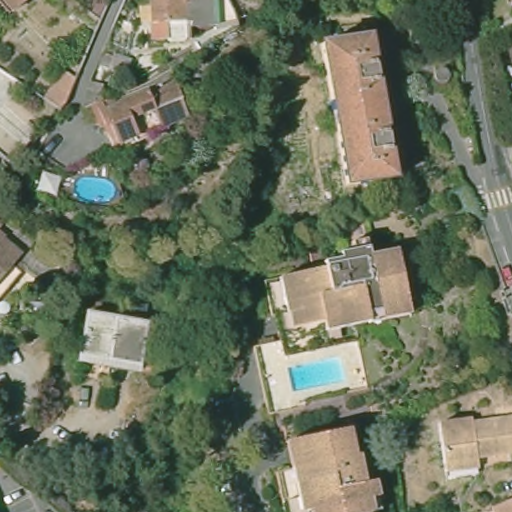pool: (281, 355, 351, 395), (61, 173, 128, 207)
